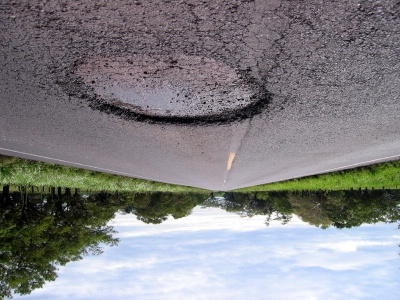pothole: (62, 48, 290, 133)
